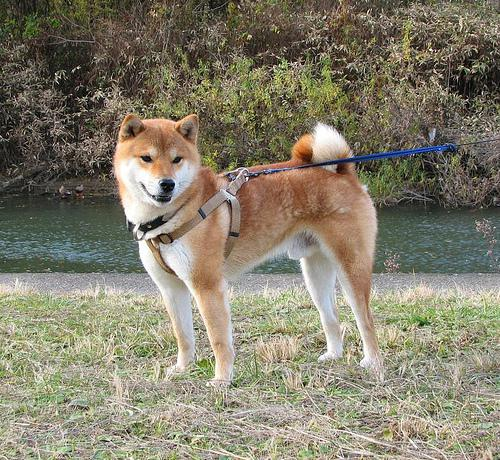dog-shiba_inu: (116, 113, 198, 205)
